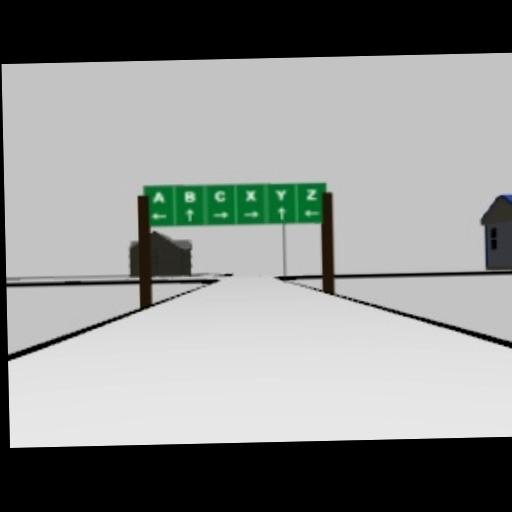A: (152, 190, 165, 203)
B: (184, 191, 197, 203)
C: (213, 189, 226, 201)
Left: (304, 210, 320, 218), (151, 213, 167, 220)
Right: (211, 212, 229, 219), (244, 211, 260, 218)
Straight: (185, 208, 195, 222), (276, 206, 286, 220)
X: (245, 189, 258, 202)
Y: (275, 189, 288, 201)
Z: (305, 188, 320, 202)
